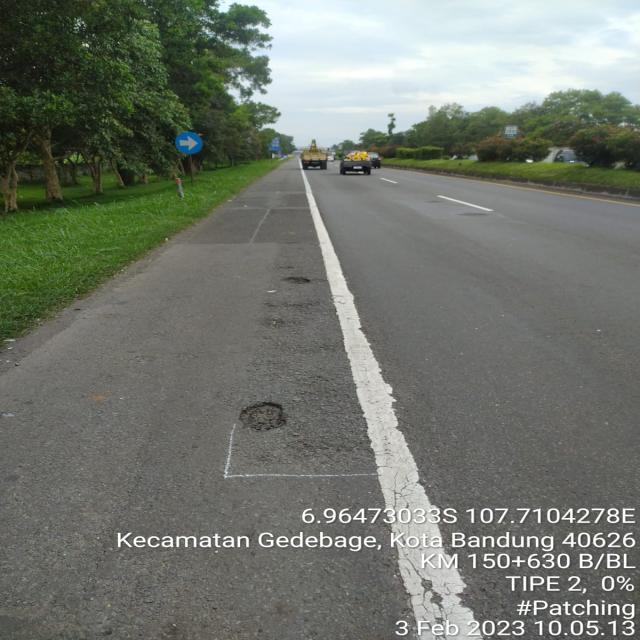Buraco: (236, 400, 289, 434), (280, 276, 314, 286)
